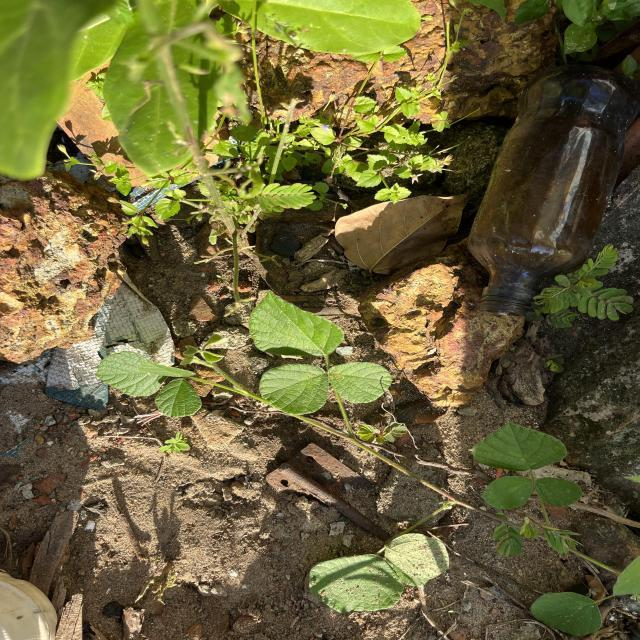Pseudarthria viscida: (247, 288, 394, 416), (471, 421, 584, 511)
